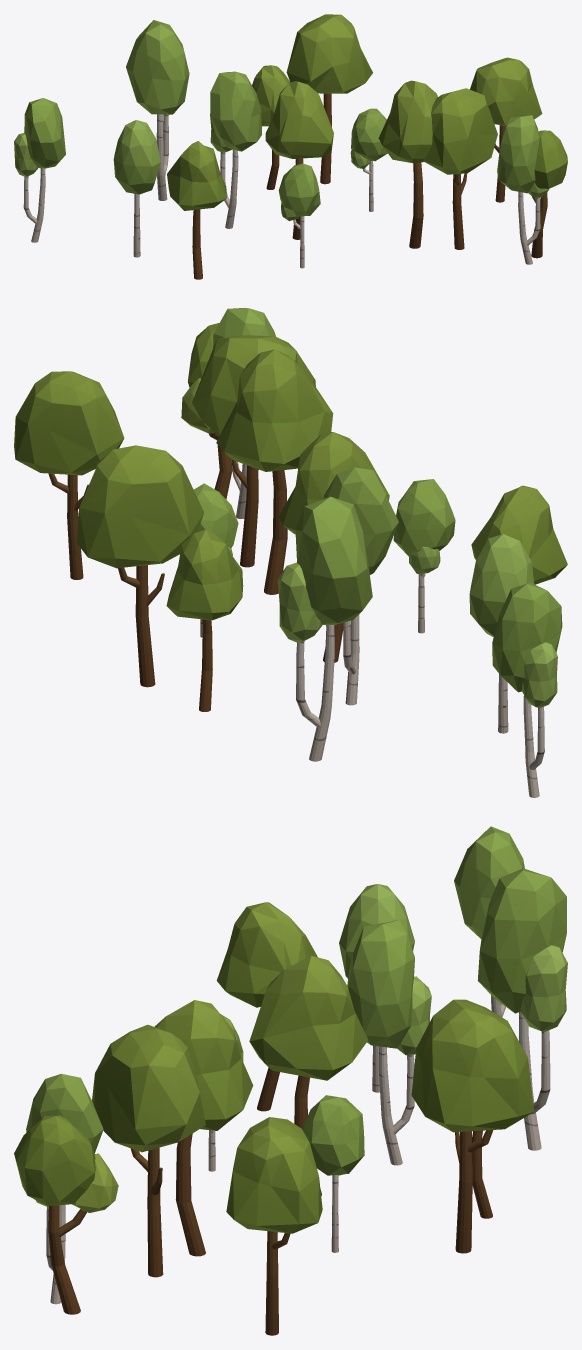
The model's file is Trees14.gltf.
3 views of the same model, one above another, from view 1: azimuth 30°, elevation 25°; view 2: azimuth 150°, elevation 25°; view 3: azimuth 270°, elevation 25° (orthographic). The views are drawn at different scales.
Parts seen in each view (by area): view 1: Beechtree3 - copy.020, Beechtree3 - copy.019, BirchTree2 - copy.004, Beechtree1 - copy.002, BirchTree2 - copy.017, Beechtree1 - copy.033, BirchTree2 - copy.009, Beechtree1 - copy.034, BirchTree2 - copy.007, Beechtree3 - copy.025, BirchTree1 - copy.029, BirchTree3 - copy.001 (+3 smaller); view 2: Beechtree3 - copy.019, BirchTree2 - copy.004, Beechtree1 - copy.002, Beechtree3 - copy.025, BirchTree2 - copy.009, Beechtree1 - copy.031, Beechtree3 - copy.020, BirchTree2 - copy.017, BirchTree3 - copy.001, BirchTree1 - copy.029, Beechtree1 - copy.034, Beechtree1 - copy.033 (+3 smaller); view 3: Beechtree3 - copy.019, BirchTree2 - copy.004, Beechtree3 - copy.020, Beechtree1 - copy.033, Beechtree3 - copy.025, BirchTree2 - copy.017, Beechtree2 - copy.044, Beechtree1 - copy.002, Beechtree1 - copy.034, BirchTree3 - copy.016, BirchTree2 - copy.009, BirchTree2 - copy.007 (+2 smaller).
Boxes of the visible parts, x1,y1,x2,y2 form: Beechtree3 - copy.020: (423, 88, 497, 249); Beechtree3 - copy.019: (286, 14, 372, 184); BirchTree2 - copy.004: (126, 20, 189, 200); Beechtree1 - copy.002: (378, 80, 437, 248); BirchTree2 - copy.017: (210, 71, 261, 228); Beechtree1 - copy.033: (265, 81, 333, 239); BirchTree2 - copy.009: (14, 98, 65, 242); Beechtree1 - copy.034: (167, 141, 226, 279); BirchTree2 - copy.007: (497, 115, 549, 264); Beechtree3 - copy.025: (470, 57, 542, 202); BirchTree1 - copy.029: (113, 120, 160, 257); BirchTree3 - copy.001: (278, 163, 320, 268); Beechtree3 - copy.019: (76, 445, 203, 687); BirchTree2 - copy.004: (277, 496, 372, 761); Beechtree1 - copy.002: (216, 349, 333, 594); Beechtree3 - copy.025: (14, 371, 124, 579); BirchTree2 - copy.009: (492, 582, 562, 797); Beechtree1 - copy.031: (166, 529, 243, 711); Beechtree3 - copy.020: (192, 335, 315, 567); BirchTree2 - copy.017: (323, 467, 398, 705); BirchTree3 - copy.001: (393, 479, 455, 633); BirchTree1 - copy.029: (469, 534, 534, 733); Beechtree1 - copy.034: (471, 485, 567, 584); Beechtree1 - copy.033: (278, 432, 389, 662); Beechtree3 - copy.019: (411, 999, 533, 1253); BirchTree2 - copy.004: (477, 868, 567, 1150); Beechtree3 - copy.020: (92, 1024, 205, 1277); Beechtree1 - copy.033: (249, 956, 368, 1195); Beechtree3 - copy.025: (226, 1117, 322, 1335); BirchTree2 - copy.017: (347, 920, 431, 1165); Beechtree2 - copy.044: (14, 1115, 118, 1314); Beechtree1 - copy.002: (154, 1000, 253, 1256); Beechtree1 - copy.034: (216, 902, 317, 1111); BirchTree3 - copy.016: (302, 1095, 364, 1252); BirchTree2 - copy.009: (454, 826, 524, 1017); BirchTree2 - copy.007: (26, 1073, 103, 1304).
Size of the model in its own units: 29.96 by 11.66 by 21.44.
Materials: 6 (6 with a texture image).
